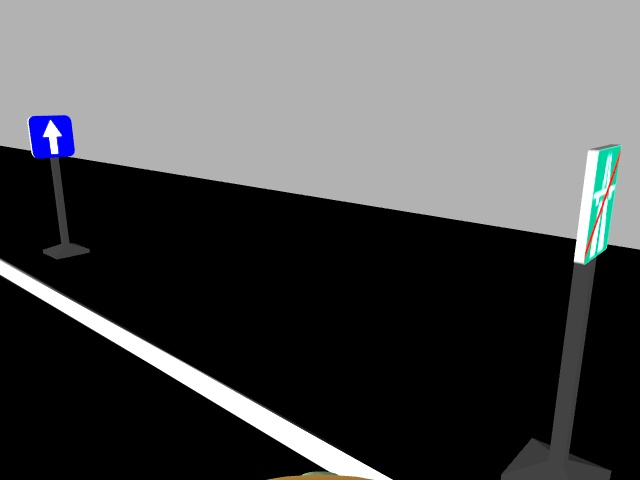HighwayExit: (574, 144, 625, 260)
OneWay: (22, 111, 75, 161)
